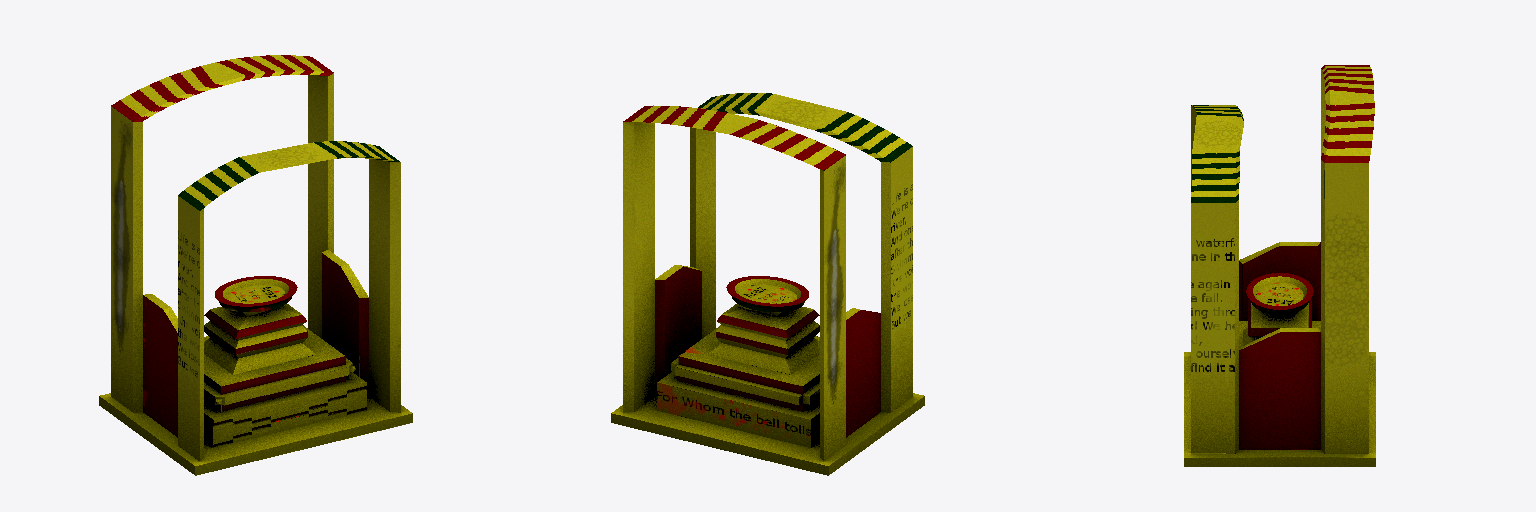
3 renders of one model, left to right at view 1: azimuth 30°, elevation 25°; view 2: azimuth 150°, elevation 25°; view 3: azimuth 270°, elevation 25°, orthographic.
Visible parts, largest first — view 1: Plane.004_Plane.002; view 2: Plane.004_Plane.002; view 3: Plane.004_Plane.002.
Part boxes in pixels (x1,y1,x2,y2): Plane.004_Plane.002: (99,55,412,475); Plane.004_Plane.002: (611,93,924,475); Plane.004_Plane.002: (1184,65,1375,466).
Bounding box in the file's own units: 183 × 255 × 141.
Materials: 3 (1 with a texture image).